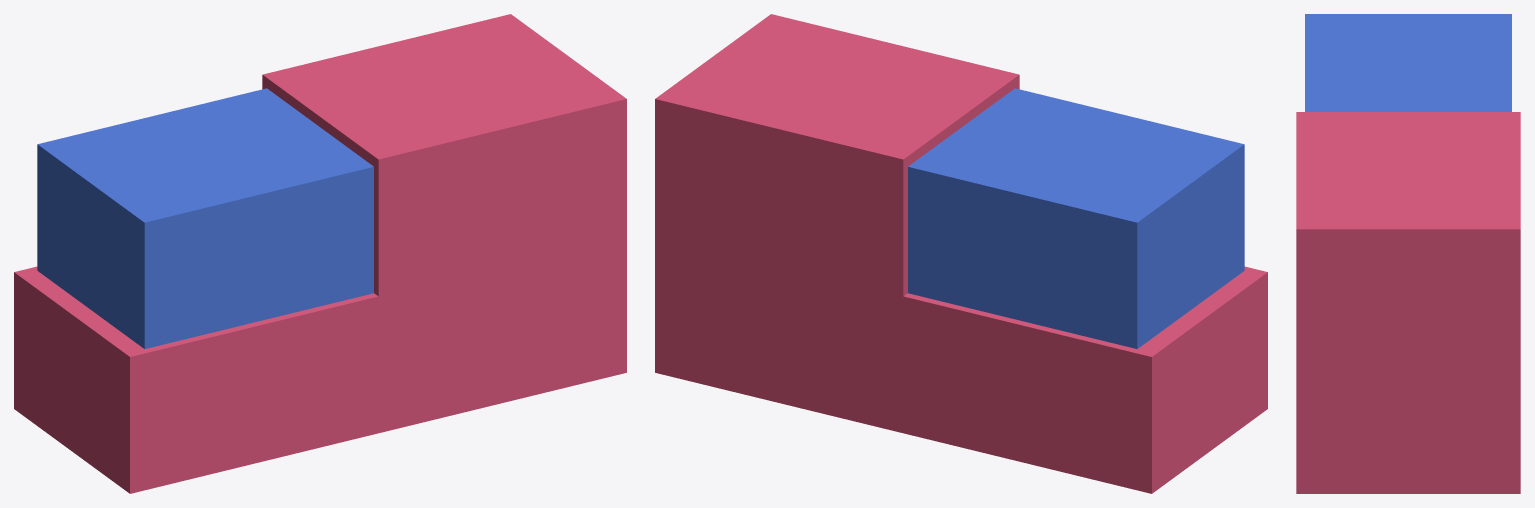
File: Block1.fbx
The picture shows the model from 3 angles, left to right: view 1: azimuth 30°, elevation 25°; view 2: azimuth 150°, elevation 25°; view 3: azimuth 270°, elevation 25°; orthographic projection. The views are drawn at different scales.
Visible parts, largest first — view 1: Cube.001; view 2: Cube.001; view 3: Cube.001.
Part boxes in pixels (x1=…): Cube.001: x1=14, y1=14, x2=626, y2=493; Cube.001: x1=655, y1=14, x2=1267, y2=493; Cube.001: x1=1296, y1=14, x2=1520, y2=493.
Size of the model in its own units: 46.93 by 61.1 by 116.
